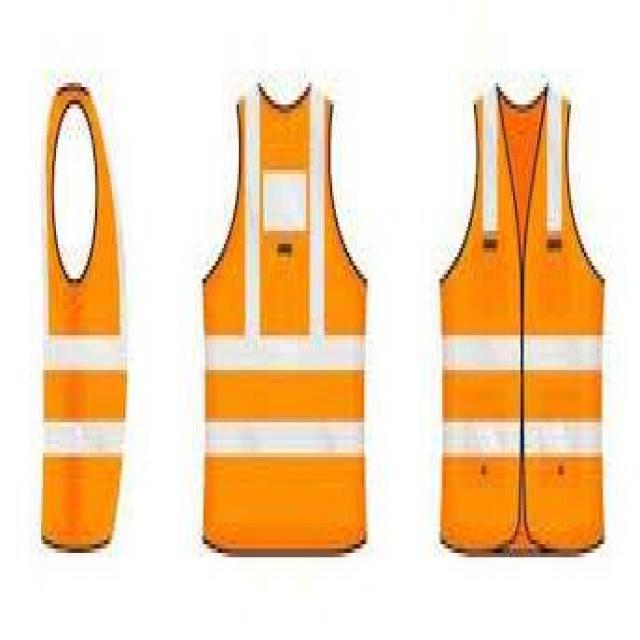Reflective-Jacket: (192, 66, 375, 570), (426, 70, 608, 566), (26, 48, 136, 566)
